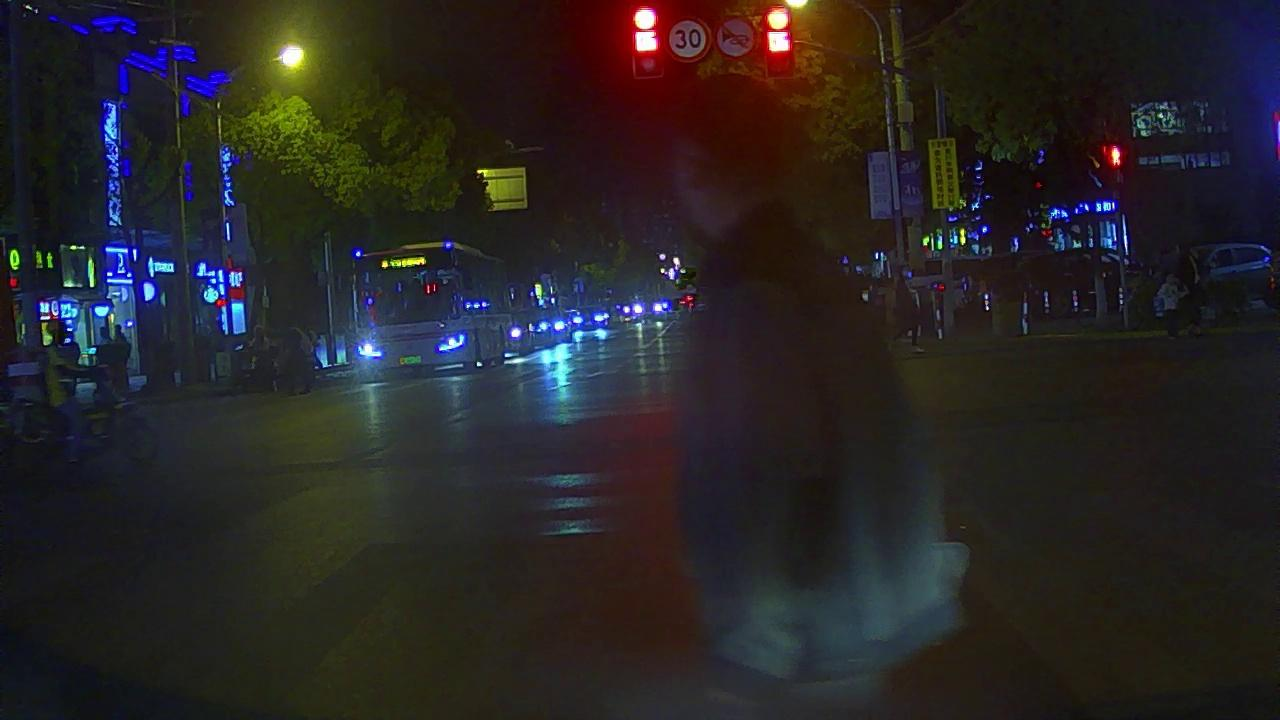traffic_light: (763, 3, 794, 72), (631, 4, 660, 73)
